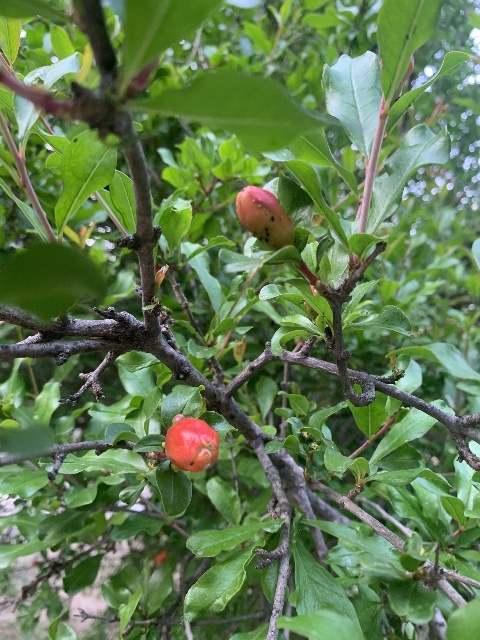bud: (235, 186, 293, 252), (164, 417, 219, 472)
